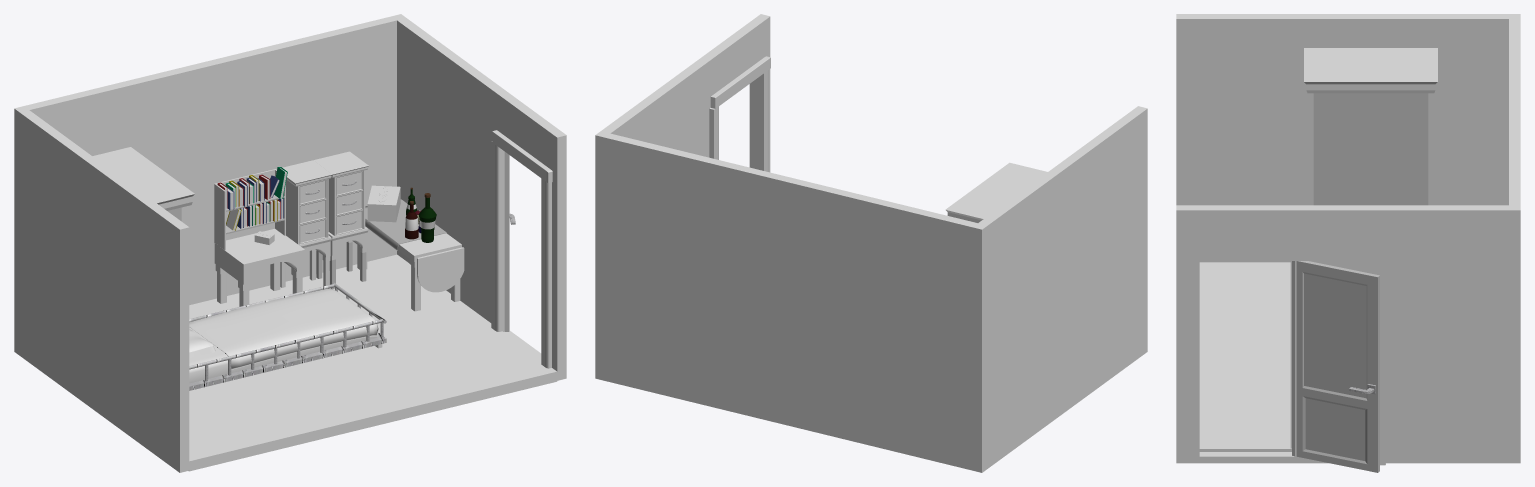
File: room gg.fbx
The picture shows the model from 3 angles, left to right: view 1: azimuth 30°, elevation 25°; view 2: azimuth 150°, elevation 25°; view 3: azimuth 270°, elevation 25°; orthographic projection. The views are drawn at different scales.
Parts seen in each view (by area): view 1: Куб.012, Куб.007, Куб, Куб.003, Куб.023, Куб.009, Куб.043, Cube.002, Cube.001, Окружность.001, Куб.011, Куб.058 (+18 smaller); view 2: Куб.007, Куб.012, Куб.009, Cube.001, Cube; view 3: Куб.012, Куб, Куб.006, Плоскость.002, Куб.009, Куб.007, Плоскость.003, Cube.002.
Part boxes in pixels (x1,y1,x2,y2): Куб.012: [14, 14, 566, 472]; Куб.007: [24, 16, 396, 304]; Куб: [189, 254, 557, 471]; Куб.003: [189, 288, 378, 369]; Куб.023: [214, 229, 304, 284]; Куб.009: [92, 147, 194, 210]; Куб.043: [217, 167, 287, 230]; Cube.002: [491, 141, 502, 331]; Cube.001: [541, 178, 551, 368]; Окружность.001: [417, 247, 464, 292]; Куб.011: [299, 179, 326, 244]; Куб.058: [336, 170, 363, 235]; Куб.007: [604, 133, 977, 470]; Куб.012: [595, 14, 1147, 472]; Куб.009: [945, 162, 1047, 222]; Cube.001: [759, 70, 768, 171]; Cube: [710, 56, 770, 108]; Куб.012: [1176, 14, 1520, 463]; Куб: [1199, 262, 1291, 451]; Куб.006: [1292, 261, 1379, 472]; Плоскость.002: [1318, 93, 1423, 205]; Куб.009: [1304, 48, 1437, 93]; Куб.007: [1509, 19, 1520, 205]; Плоскость.003: [1313, 93, 1428, 205]; Cube.002: [1290, 261, 1291, 448].
Size of the model in its own units: 415 by 233 by 280.
